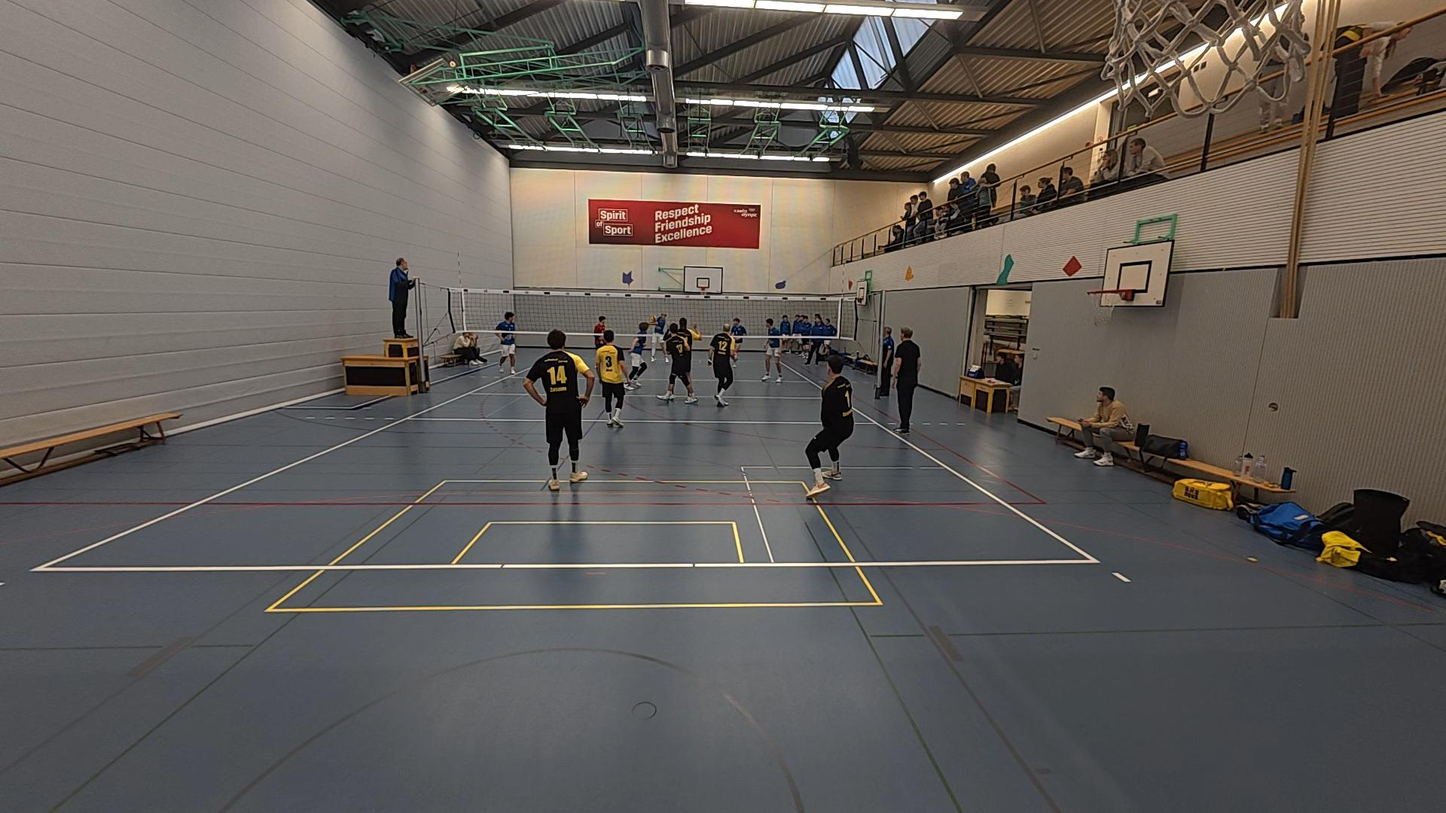Player: (526, 329, 596, 491), (804, 359, 856, 499), (592, 330, 629, 429), (660, 317, 699, 403), (708, 327, 737, 407), (493, 312, 520, 379), (632, 315, 660, 376), (761, 318, 785, 382)
Receive: (643, 304, 669, 367)
ball: (901, 265, 916, 280), (650, 308, 660, 326)
